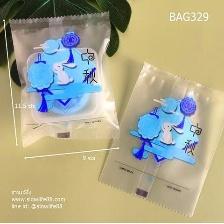snack: (93, 56, 223, 220), (3, 6, 126, 152)
